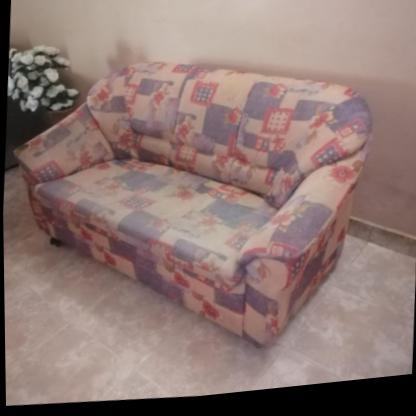Ceramic floor: (2, 168, 415, 405)
Sofa: (1, 40, 377, 380)
